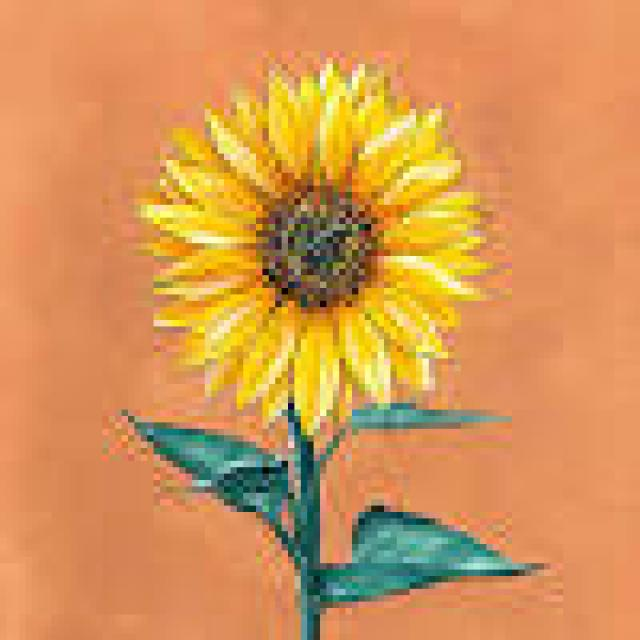sunflower: (136, 55, 500, 438)
